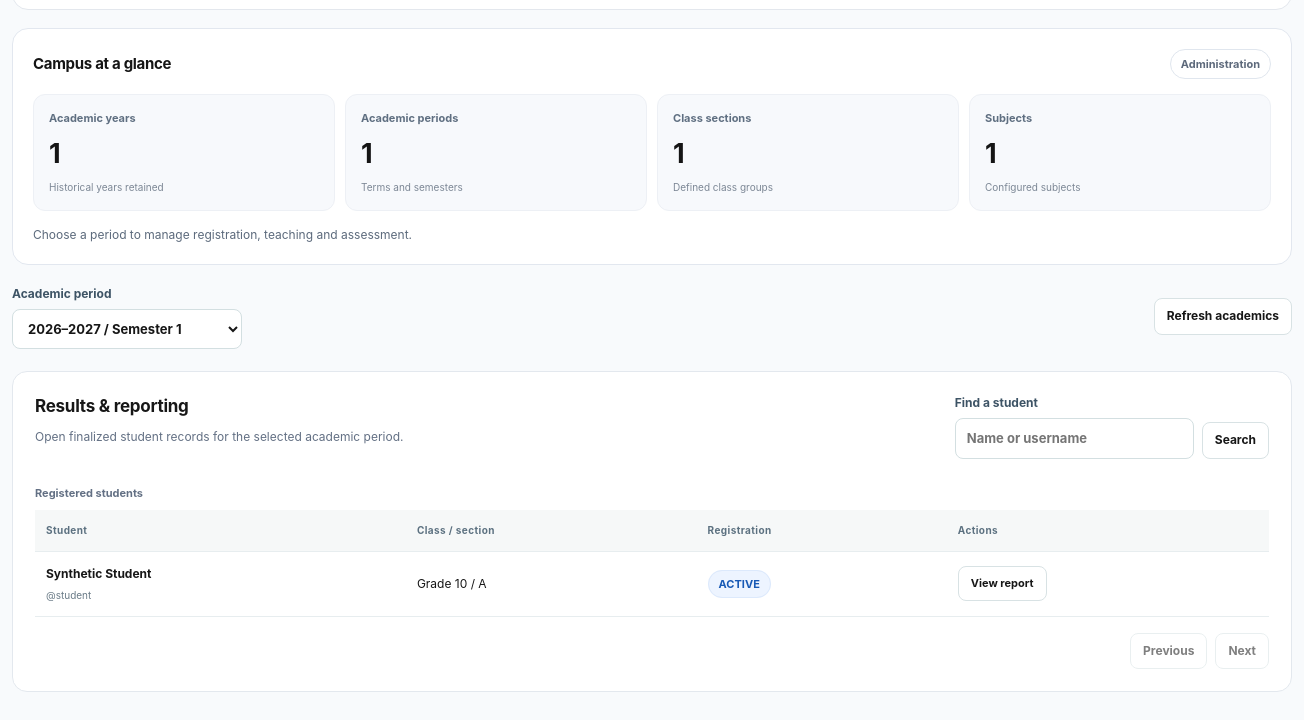
Grade School academic workspace › clears all private school records when a student report loses authorization
(page scrolled)
Click the button "View report" at (1002, 584), box [958,566,1046,601]
(page scrolled)
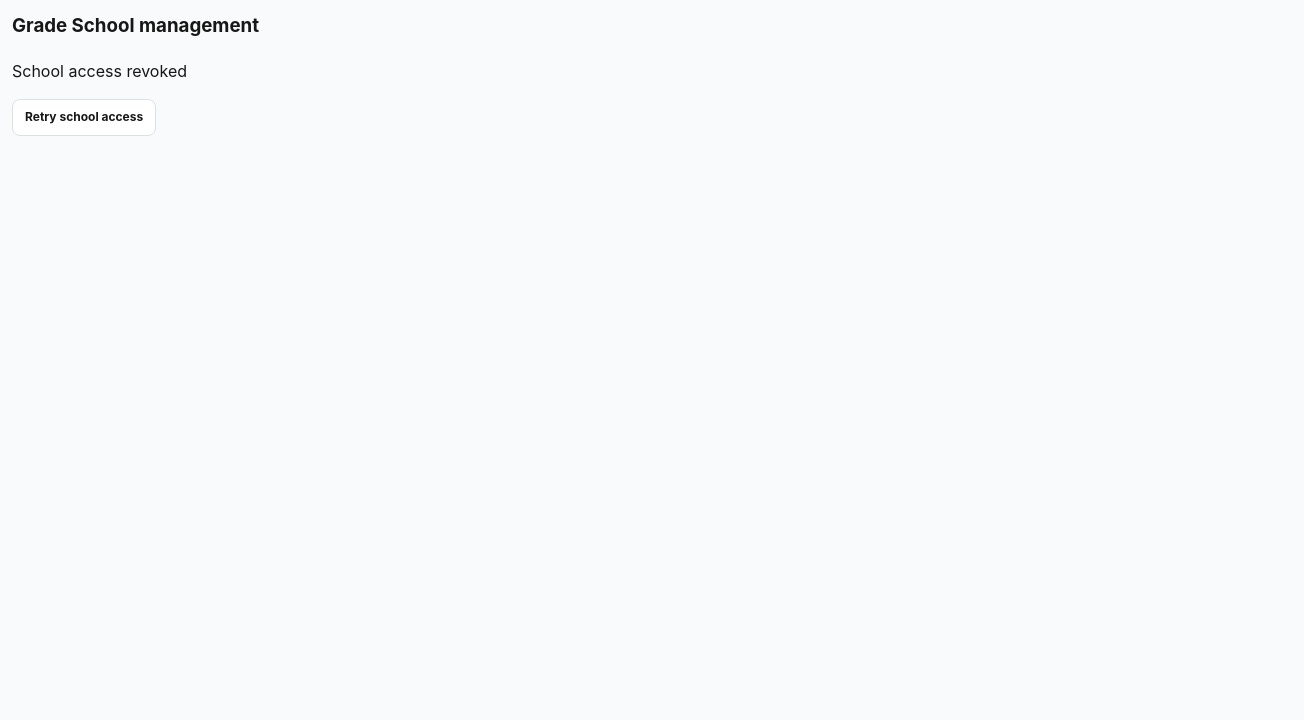
Expected: the text "Registered students" is gone
